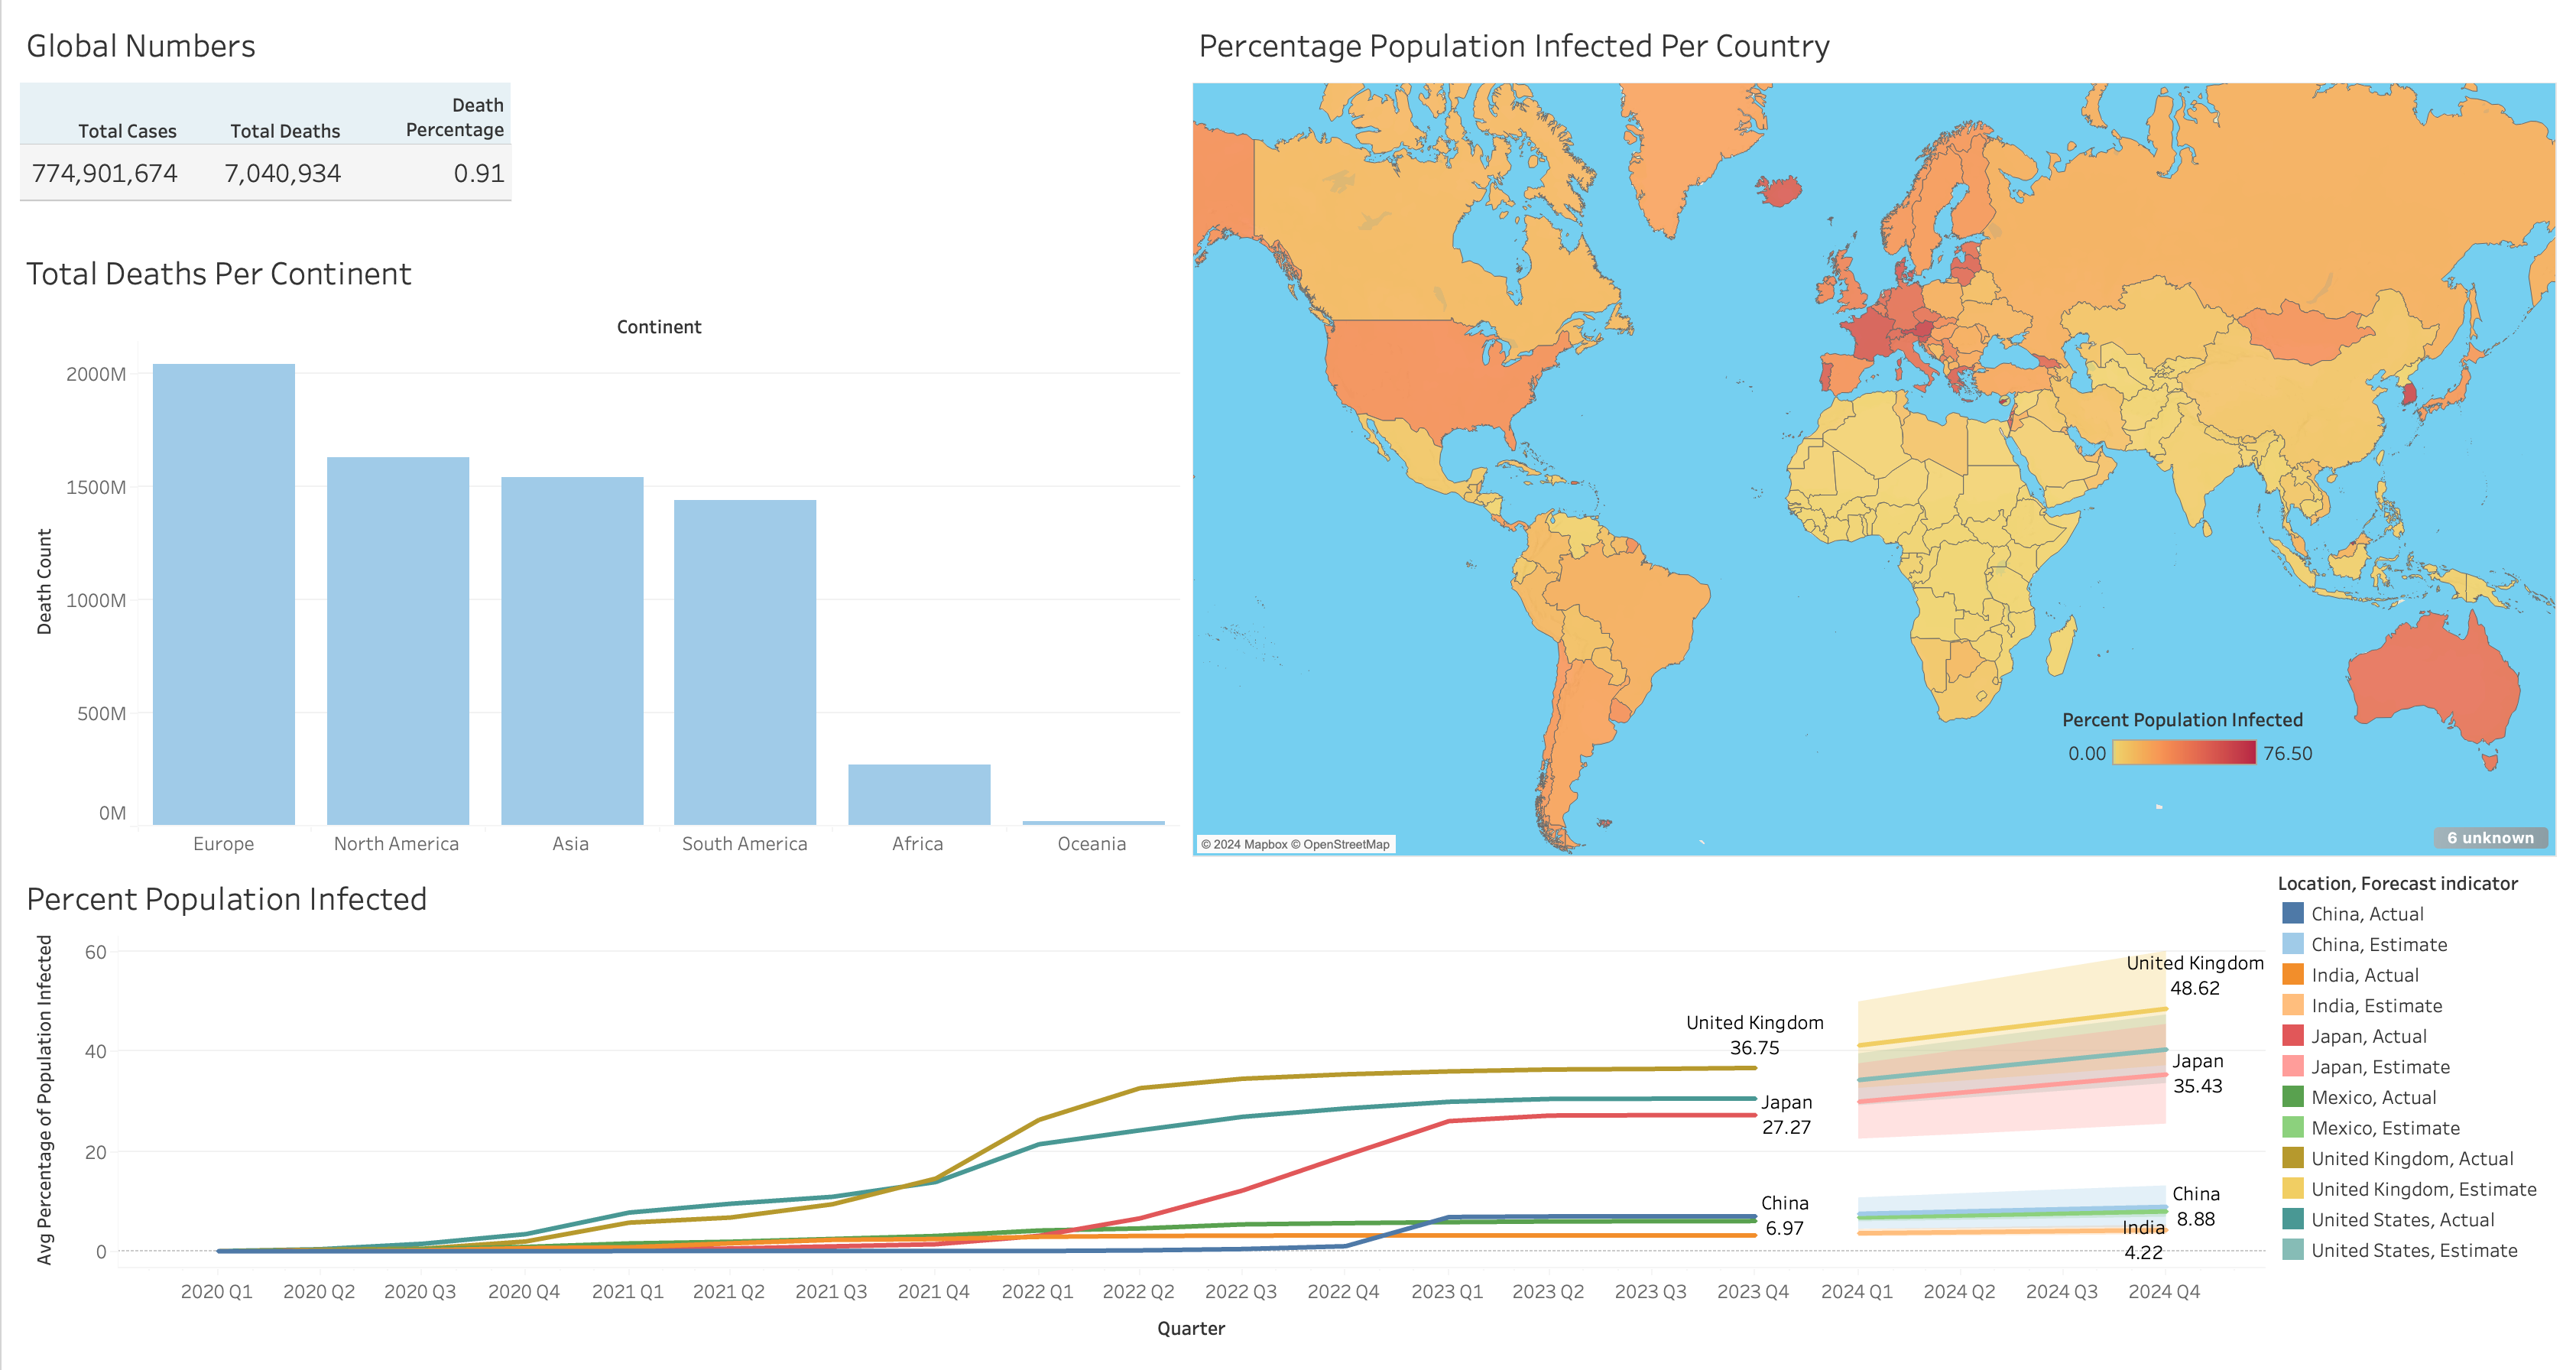

What the dashboard file says about the page in this screenshot:
{"tool":"tableau","page":{"name":"Dashboard 1","canvas":[1000,1000],"units":"permille","ordinal":0},"visuals":[{"type":"worksheet","title":"Sheet 1","mark":"Automatic","box":[5.3,8.9,430.3,166.1]},{"type":"worksheet","title":"Sheet 3","mark":"Automatic","box":[435.6,8.9,430.3,622.1]},{"type":"legend","title":"Sheet 3","param":"[federated.0hkohkh145omxt10s4n370nvits9].[sum:infectionrate:qk]","box":[865.9,8.9,128.8,72.5]},{"type":"worksheet","title":"Sheet 2","mark":"Automatic","rows":["totaldeathcount"],"cols":["Region"],"box":[5.3,175,430.3,456]},{"type":"worksheet","title":"Sheet 4","mark":"Automatic","rows":["infectionrate"],"cols":["date"],"box":[5.3,631,762,360.1]},{"type":"legend","title":"Sheet 4","param":"[federated.1xfa9dk1jf295b13xh6hy1wu0euo].[none:Location:nk]\n[federated.1xfa9dk1j","box":[767.3,631,98.6,360.1]}]}

Visuals, with their boxes on the dashboard's canvas, which has no fixed pixel size, in thousandths of its width and height (x1, y1, x2, y2). These are canvas units, not pixel positions in the 2576x1370 screenshot, which may show the page scaled, cropped or inside an application window:
"Sheet 1" worksheet: (5,9,436,175)
"Sheet 3" worksheet: (436,9,866,631)
"Sheet 3" legend: (866,9,995,81)
"Sheet 2" worksheet: (5,175,436,631)
"Sheet 4" worksheet: (5,631,767,991)
"Sheet 4" legend: (767,631,866,991)
